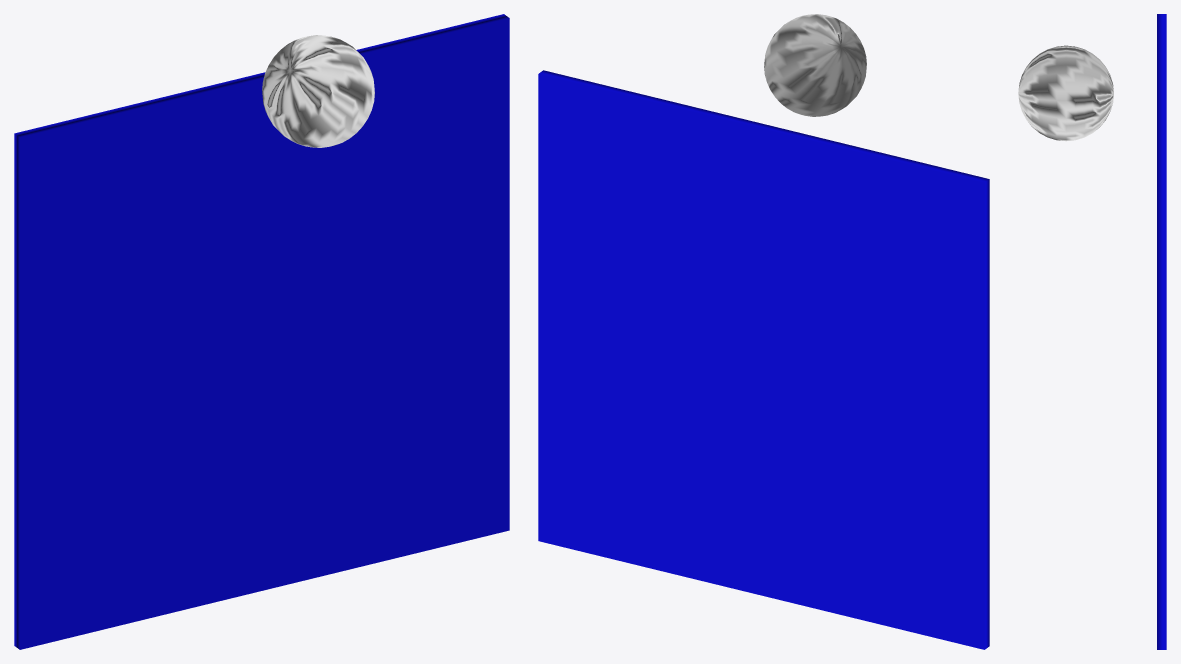
Rendered from timecode_sample.glb.
3 views of the same model, side by side, from view 1: azimuth 30°, elevation 25°; view 2: azimuth 150°, elevation 25°; view 3: azimuth 270°, elevation 25° (orthographic). The views are drawn at different scales.
Parts seen in each view (by area): view 1: Backdrop, Sphere; view 2: Backdrop, Sphere; view 3: Sphere, Backdrop.
Boxes of the visible parts, bbox=[...] form: Backdrop: bbox=[14, 14, 509, 649]; Sphere: bbox=[262, 35, 374, 147]; Backdrop: bbox=[538, 70, 989, 649]; Sphere: bbox=[764, 14, 866, 116]; Sphere: bbox=[1018, 45, 1113, 141]; Backdrop: bbox=[1157, 14, 1166, 649].
Bounding box in the file's own units: 10 × 11.5 × 3.1.
